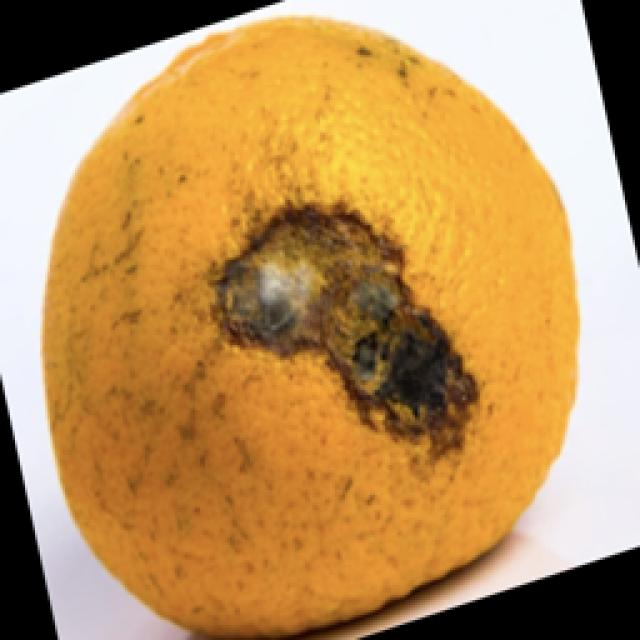Rotten_Orange: (29, 41, 593, 592)
